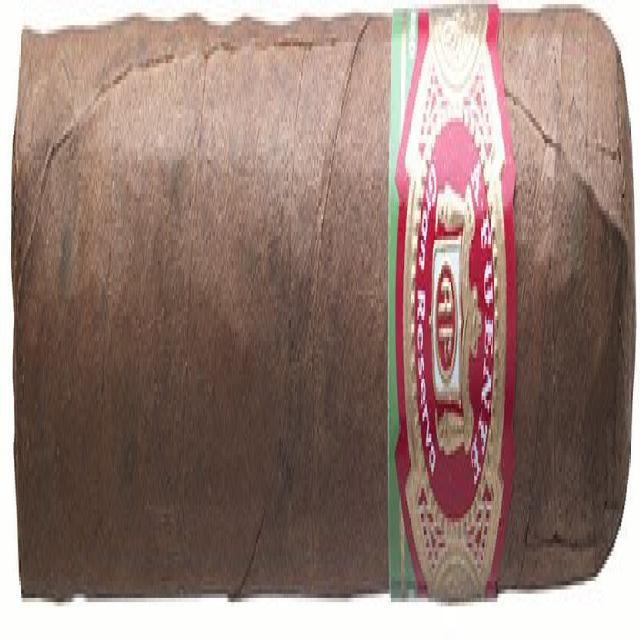Arturo Fuente: (394, 0, 518, 598)
